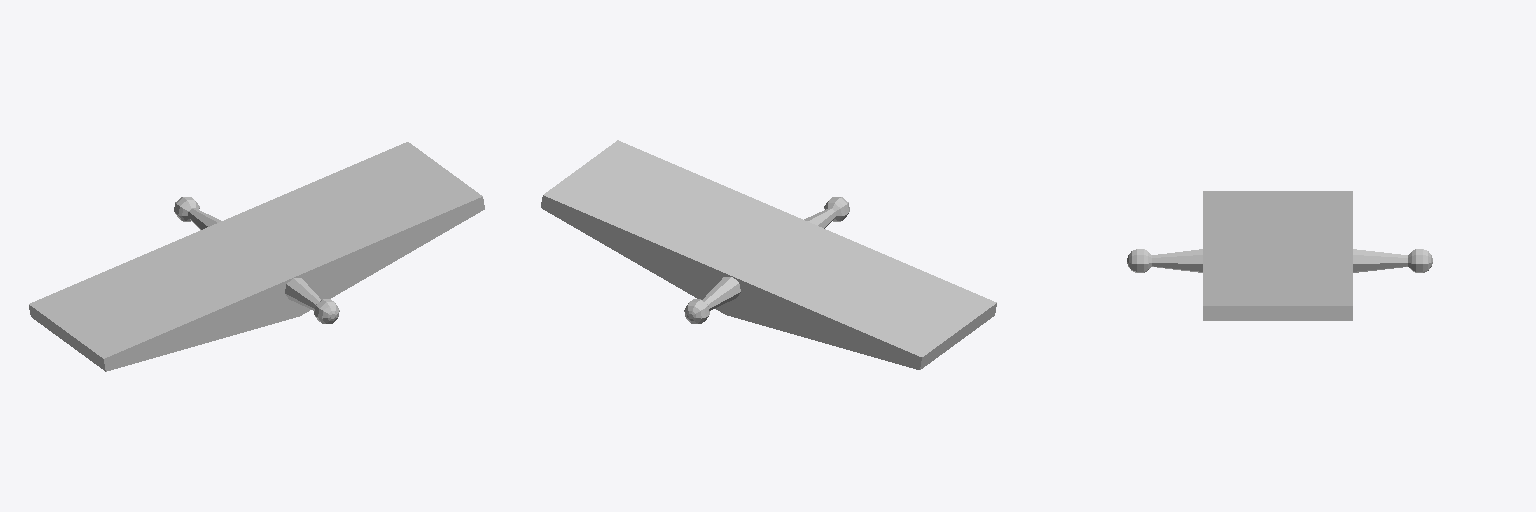
File: P_Modul_30_Wippe.obj
The picture shows the model from 3 angles: view 1: azimuth 30°, elevation 25°; view 2: azimuth 150°, elevation 25°; view 3: azimuth 270°, elevation 25°; orthographic projection.
Visible parts, largest first — view 1: P_Modul_30_Wippe; view 2: P_Modul_30_Wippe; view 3: P_Modul_30_Wippe.
Boxes of the visible parts, x1=… form: P_Modul_30_Wippe: x1=29, y1=142, x2=484, y2=371; P_Modul_30_Wippe: x1=541, y1=140, x2=996, y2=369; P_Modul_30_Wippe: x1=1127, y1=191, x2=1432, y2=320.
Size of the model in its own units: 14.66 by 3.06 by 10.15.